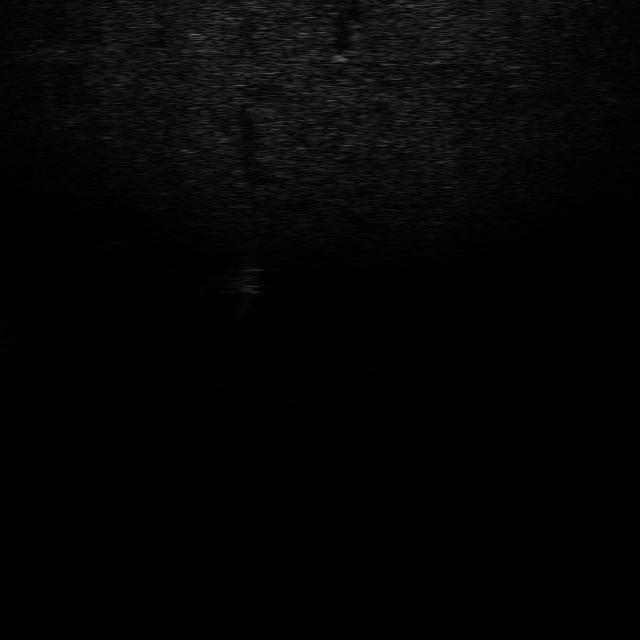human body: (230, 262, 268, 321)
